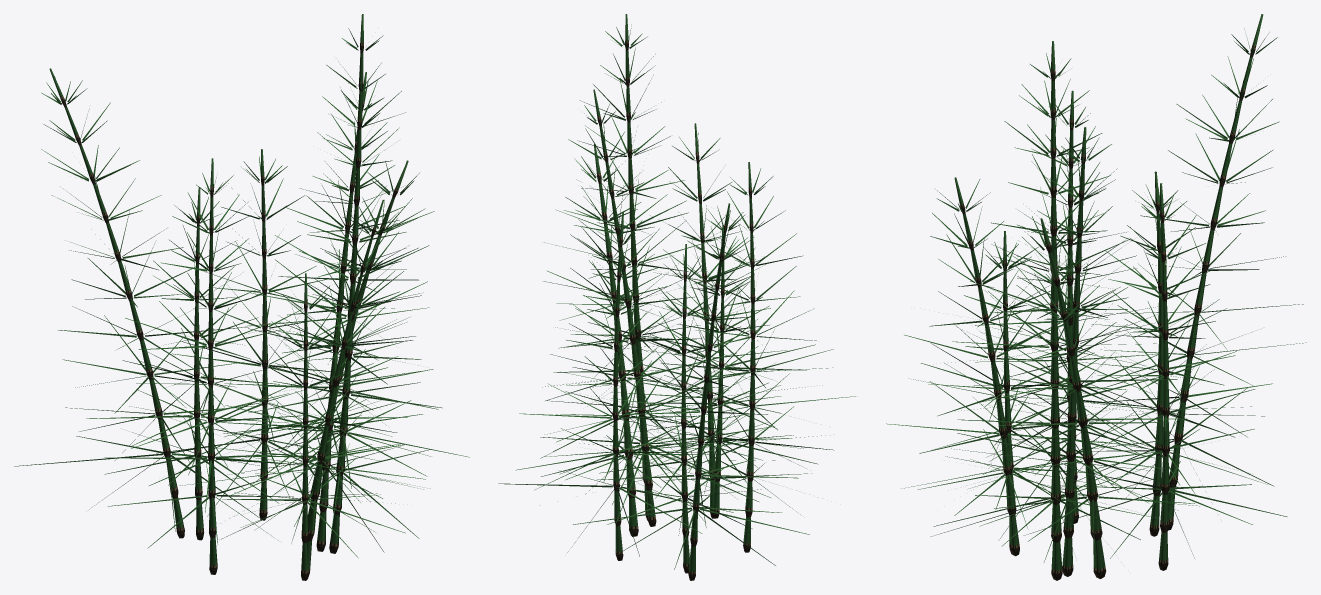
File: horsetail_v02_LOD1.fbx
3 views of the same model, side by side, from view 1: azimuth 30°, elevation 25°; view 2: azimuth 150°, elevation 25°; view 3: azimuth 270°, elevation 25° (orthographic). The views are drawn at different scales.
Visible parts, largest first — view 1: horsetail_v02_LOD1; view 2: horsetail_v02_LOD1; view 3: horsetail_v02_LOD1.
Part boxes in pixels (bbox=[...]): horsetail_v02_LOD1: bbox=[14, 14, 469, 580]; horsetail_v02_LOD1: bbox=[498, 14, 855, 580]; horsetail_v02_LOD1: bbox=[886, 14, 1306, 580].
Size of the model in its own units: 35.92 by 37.72 by 54.59.
Materials: 2 (2 with a texture image).
